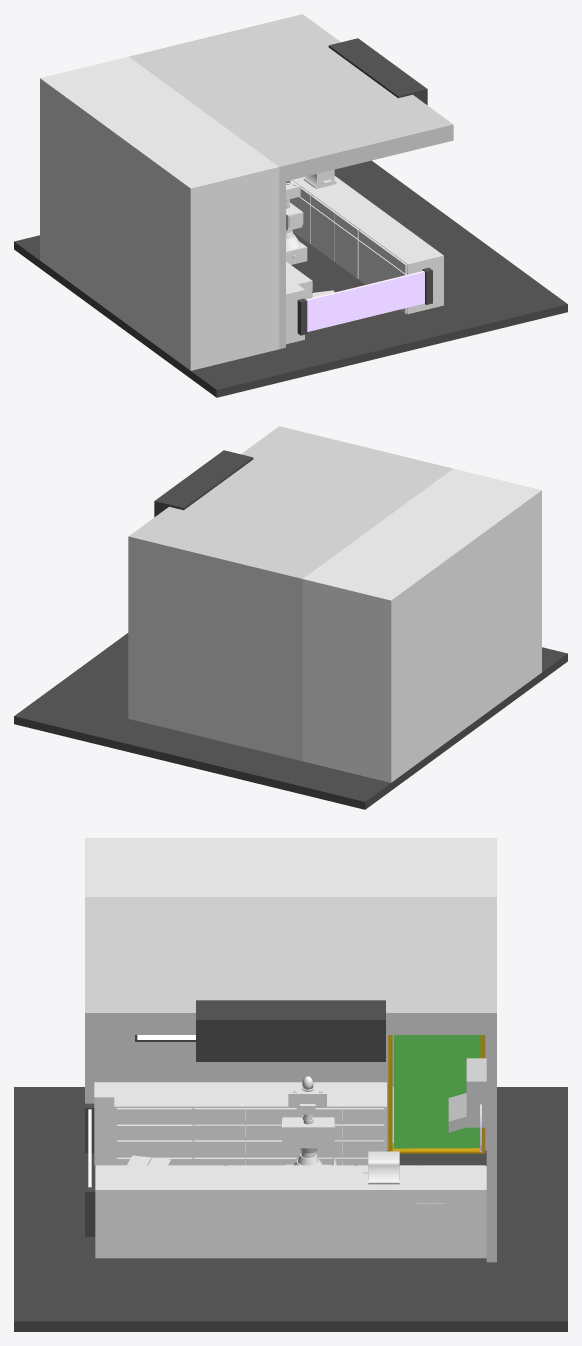
3 renders of one model, top to bottom at view 1: azimuth 30°, elevation 25°; view 2: azimuth 150°, elevation 25°; view 3: azimuth 270°, elevation 25°, orthographic. The views are drawn at different scales.
Visible parts, largest first — view 1: Cube036, Cube001, Cube, Cube003, Cube008, Cube037, Cube002, Cube038, Cube043, Cube019, Cube014, Cube004; view 2: Cube036, Cube001, Cube, Cube002; view 3: Cube, Cube001, Cube003, Cube036, Cube002, Cube013, Cube004, Cube040, Cube041, Cube043, Cube039, Cube013_1 (+4 smaller).
Part boxes in pixels (<box>): Cube036: <box>40,56,279,370</box>; Cube001: <box>129,14,453,349</box>; Cube: <box>14,160,567,397</box>; Cube003: <box>292,176,443,314</box>; Cube008: <box>306,271,424,331</box>; Cube037: <box>310,195,359,278</box>; Cube002: <box>328,38,427,105</box>; Cube038: <box>358,230,407,313</box>; Cube043: <box>286,180,307,264</box>; Cube019: <box>286,284,304,344</box>; Cube014: <box>290,187,311,243</box>; Cube004: <box>286,262,311,299</box>; Cube036: <box>302,468,541,782</box>; Cube001: <box>128,426,452,761</box>; Cube: <box>14,633,567,809</box>; Cube002: <box>154,450,253,517</box>; Cube: <box>14,1087,567,1331</box>; Cube001: <box>85,897,496,1262</box>; Cube003: <box>95,1166,486,1258</box>; Cube036: <box>85,838,496,1142</box>; Cube002: <box>196,1000,385,1061</box>; Cube013: <box>393,1035,480,1148</box>; Cube004: <box>114,1082,386,1165</box>; Cube040: <box>194,1108,296,1165</box>; Cube041: <box>117,1108,192,1165</box>; Cube043: <box>282,1076,334,1165</box>; Cube039: <box>300,1108,384,1165</box>; Cube013_1: <box>448,1058,486,1132</box>.
Bounding box in the file's own units: 7.6 × 3.98 × 7.6.
